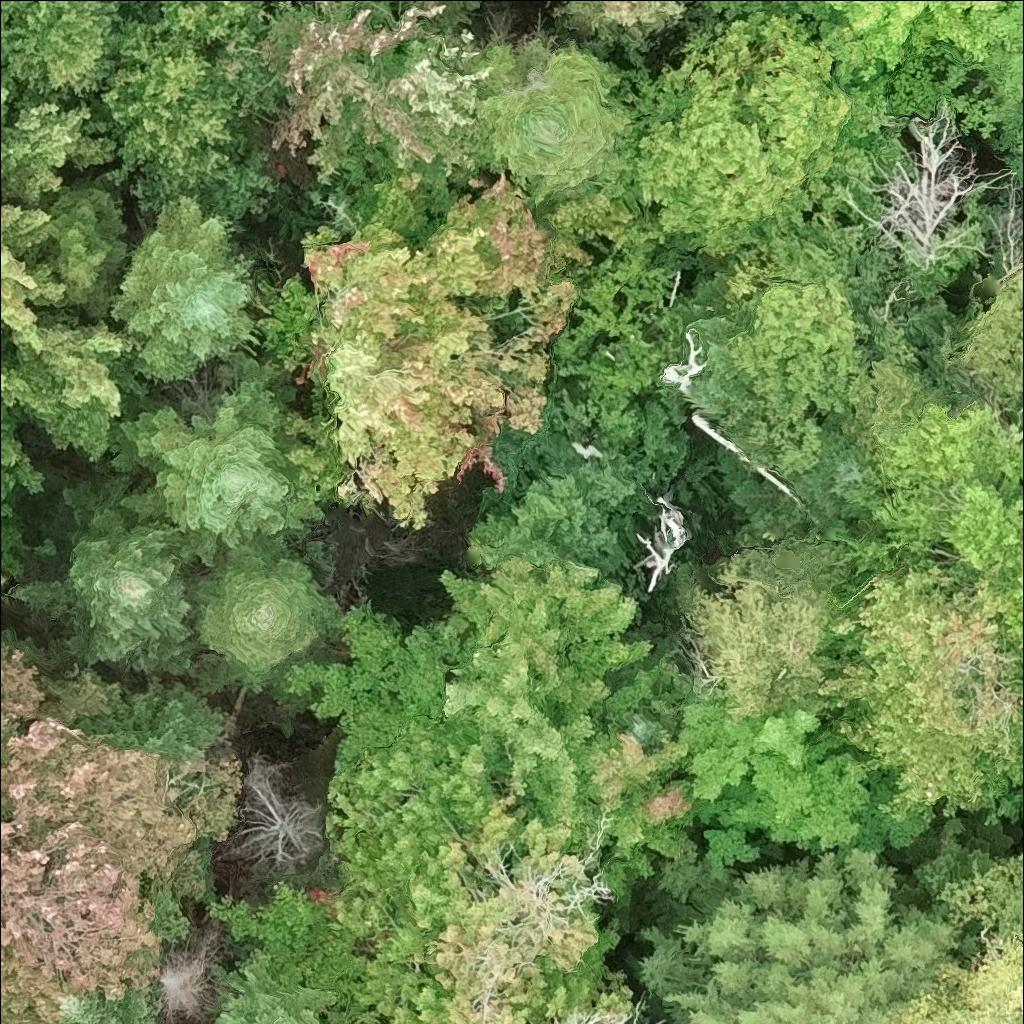crown: (259, 166, 596, 531), (422, 554, 736, 899), (311, 722, 636, 1023), (0, 672, 240, 1023), (0, 72, 149, 577), (618, 10, 874, 255), (637, 845, 966, 1023), (819, 562, 1023, 823), (255, 0, 496, 215), (674, 682, 934, 880), (95, 356, 328, 571), (69, 0, 277, 221), (874, 398, 1023, 674), (6, 478, 203, 675), (108, 191, 264, 383), (472, 35, 635, 208), (191, 531, 341, 694), (874, 114, 999, 267), (787, 0, 1004, 88), (726, 423, 871, 538), (0, 0, 140, 103), (217, 751, 325, 877), (897, 924, 1023, 1023), (200, 950, 342, 1023), (147, 919, 218, 1023), (978, 0, 1023, 162), (553, 0, 691, 46), (630, 491, 691, 593), (0, 627, 47, 758), (54, 990, 152, 1023), (556, 996, 666, 1023), (625, 707, 666, 748), (0, 565, 8, 587), (146, 1022, 149, 1023)
